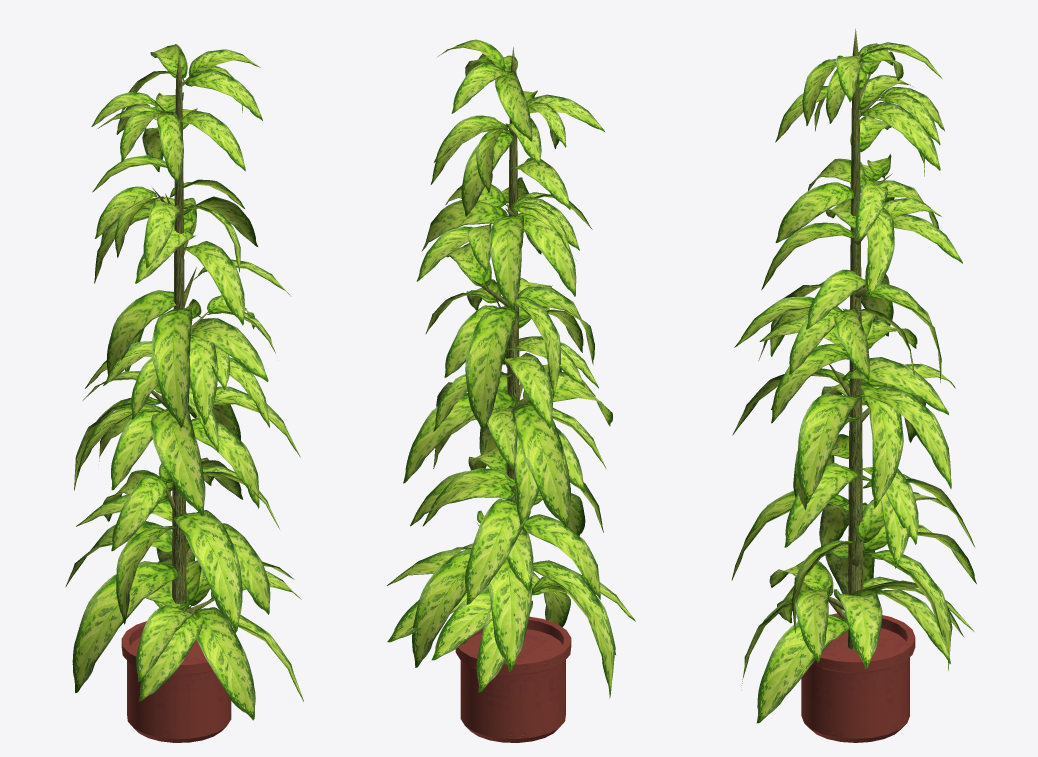
File: plant.glb
The picture shows the model from 3 angles, left to right: view 1: azimuth 30°, elevation 25°; view 2: azimuth 150°, elevation 25°; view 3: azimuth 270°, elevation 25°; orthographic projection. The views are drawn at different scales.
Parts seen in each view (by area): view 1: frm_Frame6.70, Group3.72, frm_Frame24.52, frm_Frame10.66, frm_Frame12.64, frm_Frame32.44, frm_Frame3.8, frm_Frame25.30, frm_Frame28.48, frm_Frame22.54, frm_Frame0.4, frm_Frame30.46 (+7 smaller); view 2: frm_Frame6.70, Group3.72, frm_Frame10.66, frm_Frame24.52, frm_Frame32.44, frm_Frame17.22, frm_Frame0.4, frm_Frame3.8, frm_Frame12.64, frm_Frame20.56, frm_Frame1429.62, frm_Frame16.60 (+7 smaller); view 3: Group3.72, frm_Frame8.68, frm_Frame0.4, frm_Frame12.64, frm_Frame6.70, frm_Frame25.30, frm_Frame24.52, frm_Frame01.38, frm_Frame28.48, frm_Frame32.44, frm_Frame10.66, frm_Frame1429.62 (+7 smaller).
Part boxes in pixels (left/top/right/bottom): frm_Frame6.70: left=65, top=494, right=270, bottom=692; Group3.72: left=121, top=621, right=231, bottom=742; frm_Frame24.52: left=103, top=457, right=243, bottom=632; frm_Frame10.66: left=106, top=259, right=291, bottom=428; frm_Frame12.64: left=145, top=560, right=301, bottom=720; frm_Frame32.44: left=74, top=384, right=240, bottom=516; frm_Frame3.8: left=77, top=371, right=259, bottom=508; frm_Frame25.30: left=136, top=559, right=303, bottom=701; frm_Frame28.48: left=185, top=295, right=275, bottom=425; frm_Frame22.54: left=91, top=92, right=245, bottom=183; frm_Frame0.4: left=92, top=105, right=279, bottom=624; frm_Frame30.46: left=135, top=196, right=244, bottom=325; frm_Frame6.70: left=412, top=510, right=615, bottom=698; Group3.72: left=455, top=616, right=571, bottom=742; frm_Frame10.66: left=446, top=243, right=594, bottom=431; frm_Frame24.52: left=410, top=468, right=603, bottom=604; frm_Frame32.44: left=433, top=364, right=612, bottom=527; frm_Frame17.22: left=421, top=184, right=579, bottom=296; frm_Frame0.4: left=468, top=118, right=600, bottom=599; frm_Frame3.8: left=479, top=405, right=606, bottom=524; frm_Frame12.64: left=387, top=543, right=570, bottom=692; frm_Frame20.56: left=430, top=115, right=513, bottom=216; frm_Frame1429.62: left=438, top=39, right=532, bottom=141; frm_Frame16.60: left=489, top=192, right=592, bottom=310; Group3.72: left=801, top=613, right=915, bottom=742; frm_Frame8.68: left=797, top=357, right=951, bottom=504; frm_Frame0.4: left=775, top=75, right=912, bottom=547; frm_Frame12.64: left=741, top=576, right=964, bottom=685; frm_Frame6.70: left=792, top=492, right=976, bottom=670; frm_Frame25.30: left=756, top=559, right=974, bottom=723; frm_Frame24.52: left=731, top=434, right=974, bottom=580; frm_Frame01.38: left=848, top=28, right=863, bottom=649; frm_Frame28.48: left=734, top=296, right=914, bottom=380; frm_Frame32.44: left=732, top=343, right=925, bottom=507; frm_Frame10.66: left=770, top=269, right=941, bottom=382; frm_Frame1429.62: left=802, top=42, right=942, bottom=125.
Size of the model in its own units: 22.18 by 52.76 by 22.01.
Materials: 35 (35 with a texture image).
